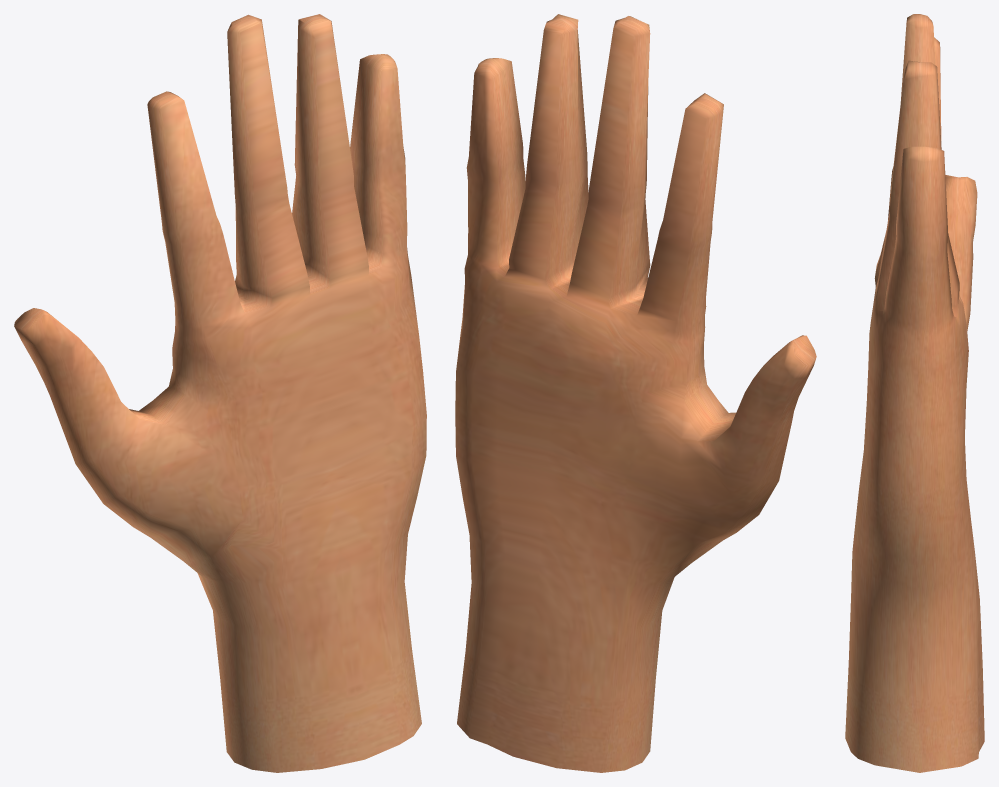
File: Hand.fbx
3 views of the same model, side by side, from view 1: azimuth 30°, elevation 25°; view 2: azimuth 150°, elevation 25°; view 3: azimuth 270°, elevation 25° (orthographic). The views are drawn at different scales.
Parts seen in each view (by area): view 1: Arm3; view 2: Arm3; view 3: Arm3.
Part boxes in pixels (box(x1,y1,x2,y2)): Arm3: box(14, 14, 426, 772); Arm3: box(455, 14, 816, 772); Arm3: box(845, 14, 984, 772).
Bounding box in the file's own units: 3.5 × 6.51 × 1.19.
